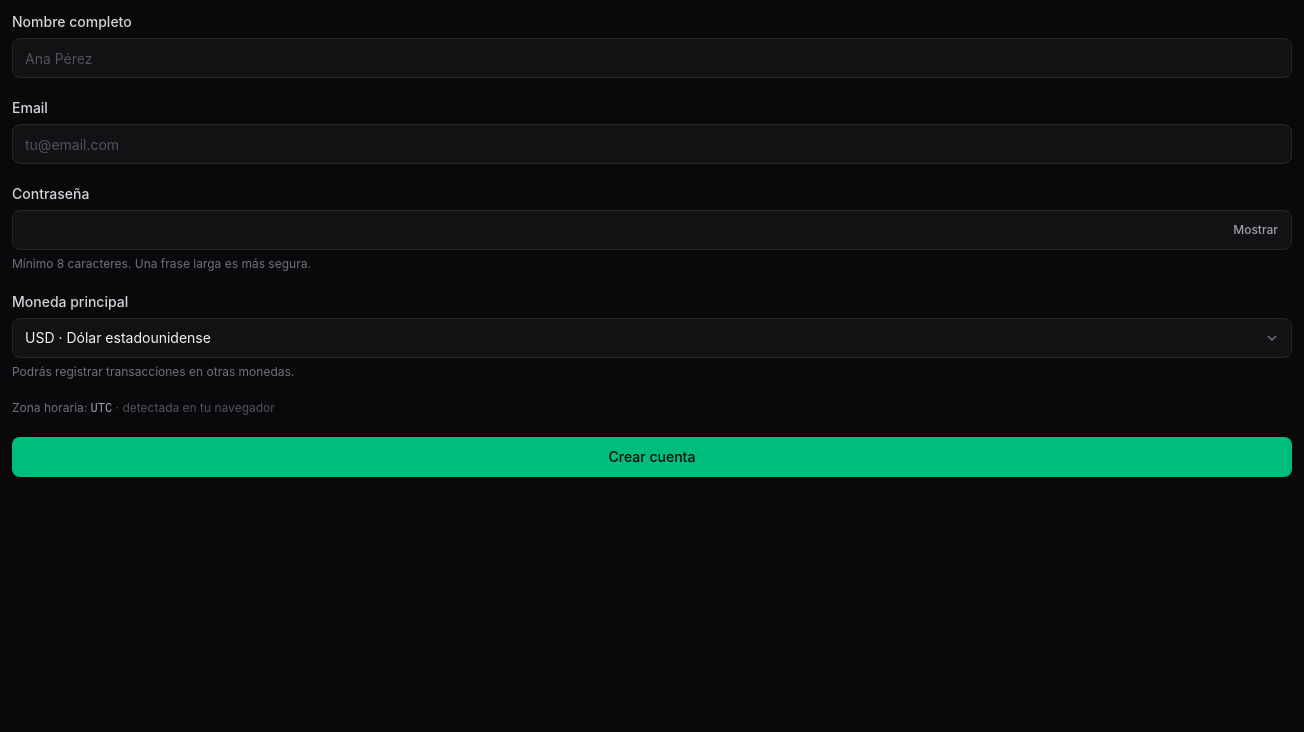
Test: RegisterForm › muestra el detalle de validación del servidor
Type " Ana Pérez " into the field labelled "Nombre completo" at (652, 58), box [12,38,1292,78]
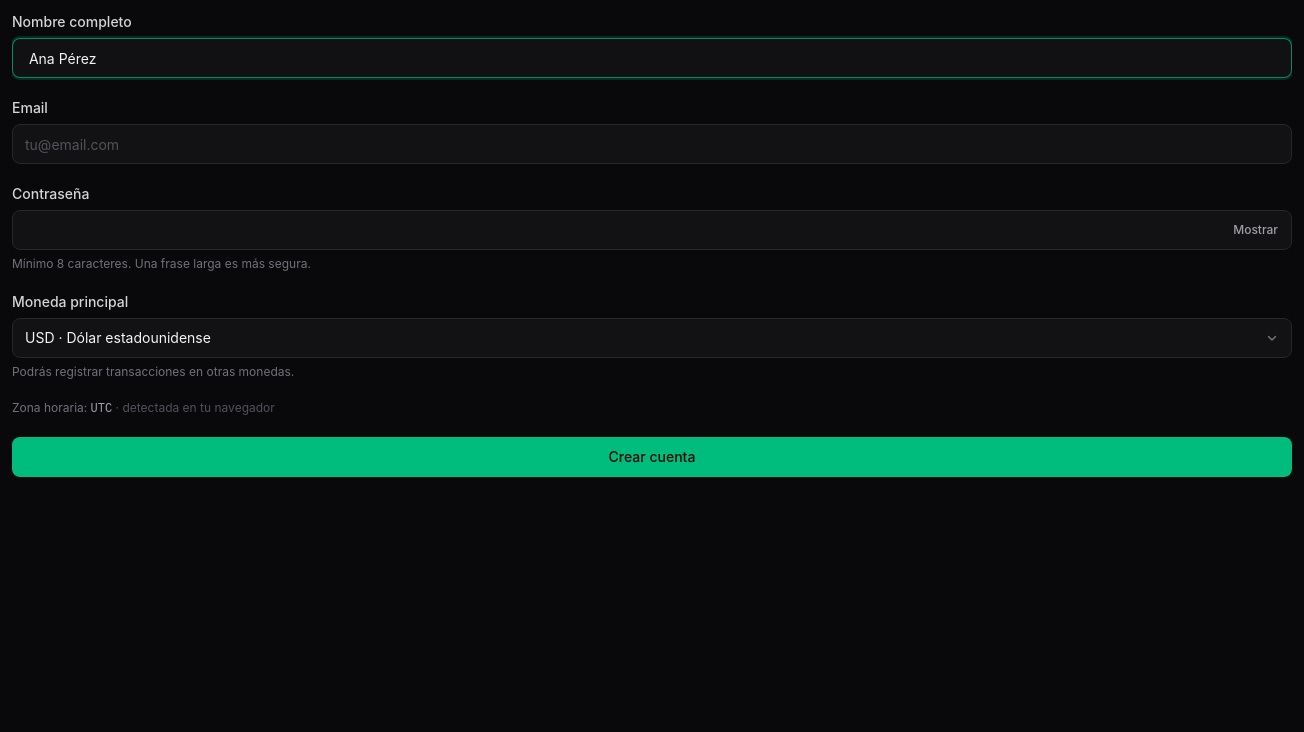
Type "ana@example.com" into the field labelled "Email" at (652, 144), box [12,124,1292,164]
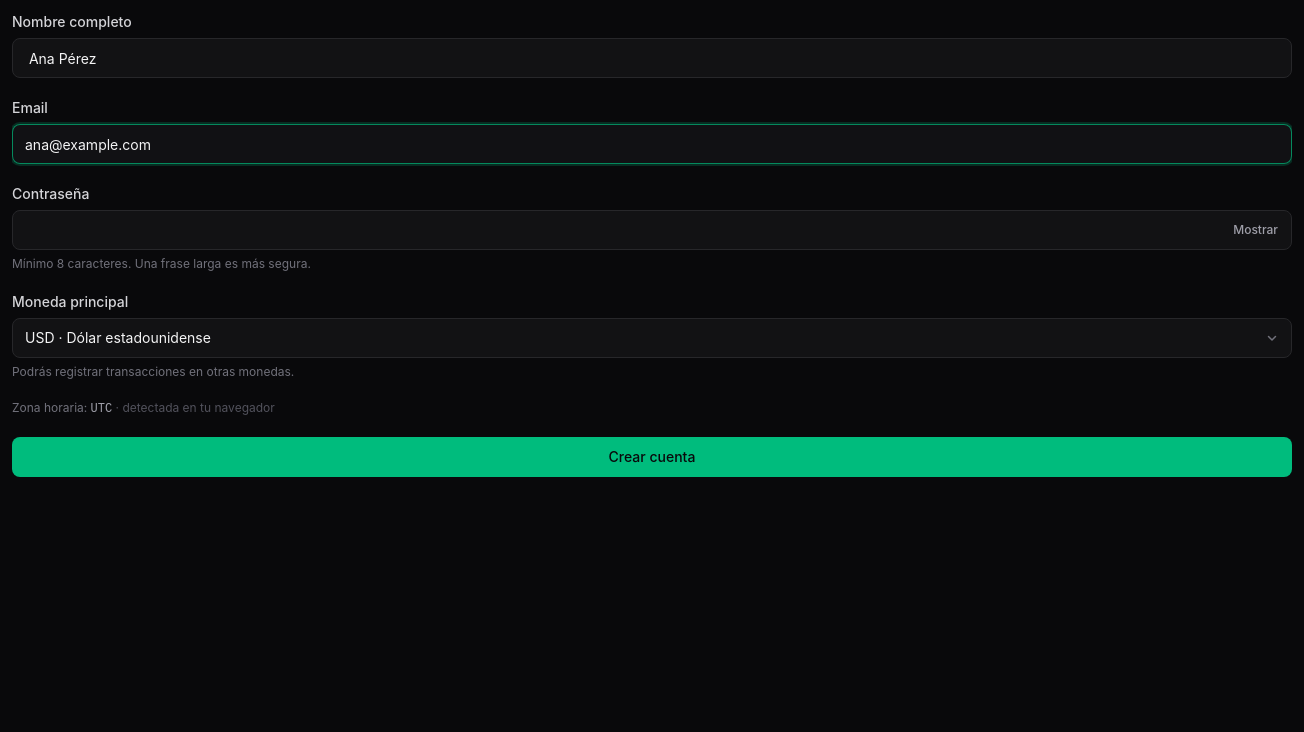
Type "contraseña-segura" into the password field labelled "Contraseña" at (652, 230), box [12,210,1292,250]
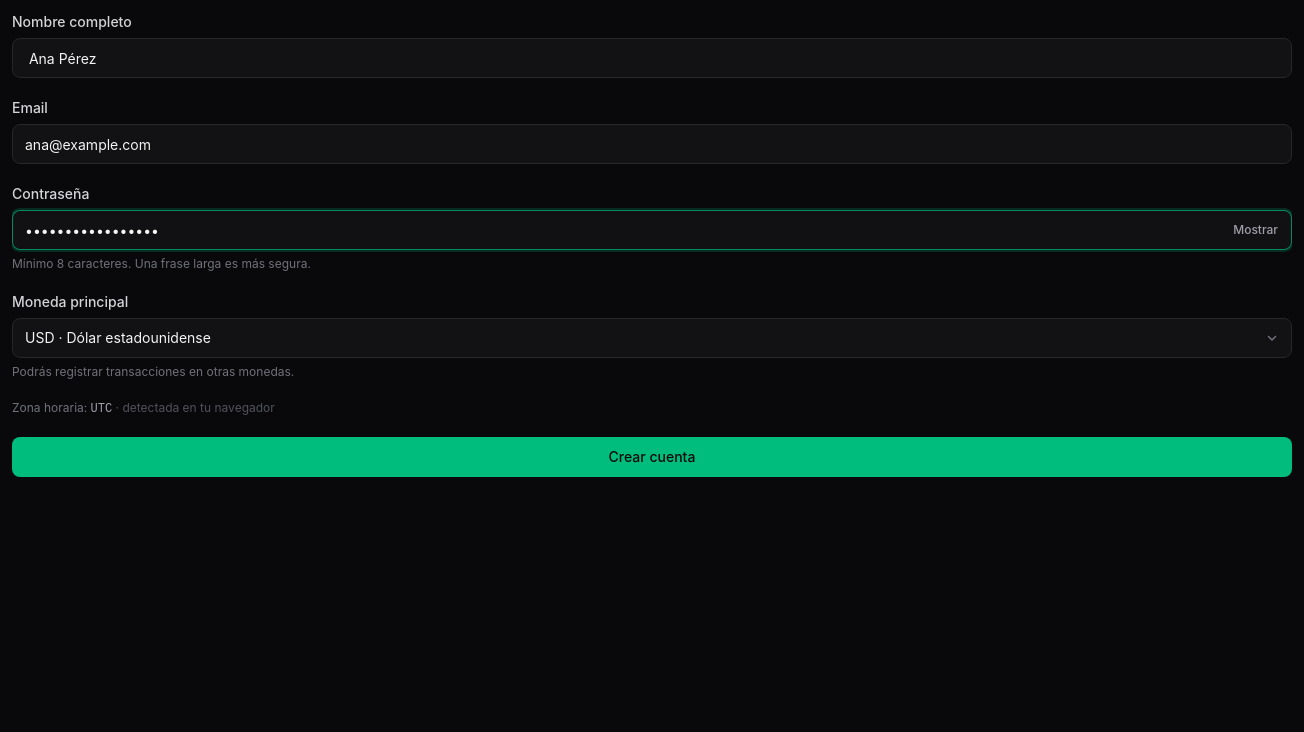
Click the button "Crear cuenta" at (652, 457), box [12,437,1292,477]
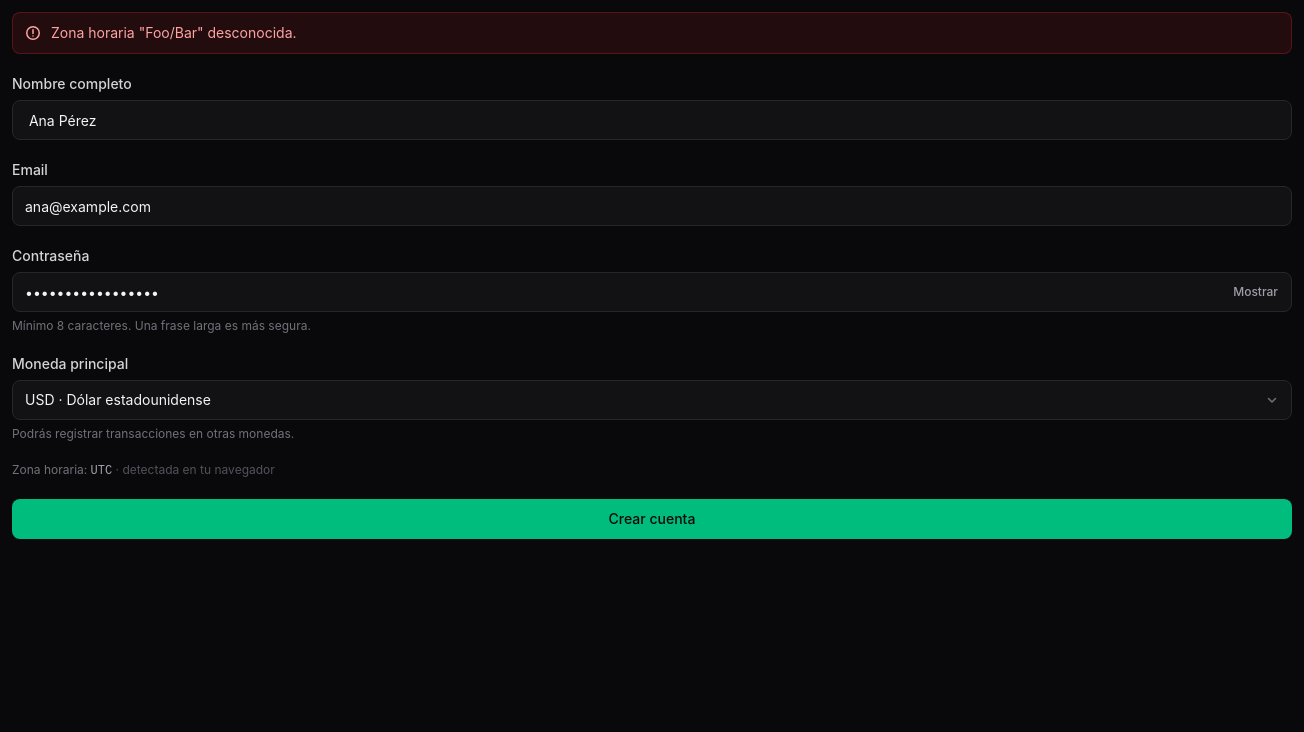
Now the message reads "Zona horaria \"Foo/Bar\" desconocida.", box [51,24,296,41]
